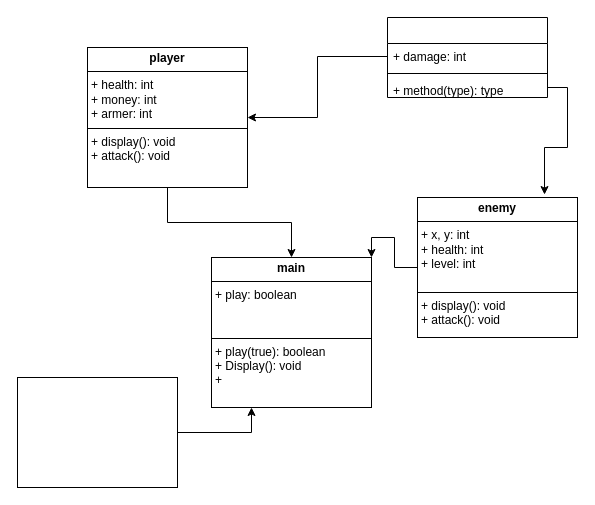
The diagram is 595 pixels wide and 505 high, and some of its shapes have lost their labels. Here are the shapes that lost their labels. From the top down, the box of each, then its label:
(386, 16, 548, 98): attack
(16, 376, 178, 488): shop + item: sting + coust: int + display(): void + displayitem(): void
